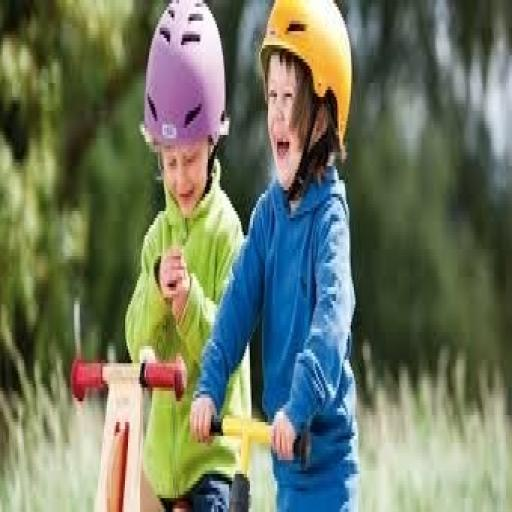cycling: (188, 0, 362, 509), (120, 0, 254, 509)
